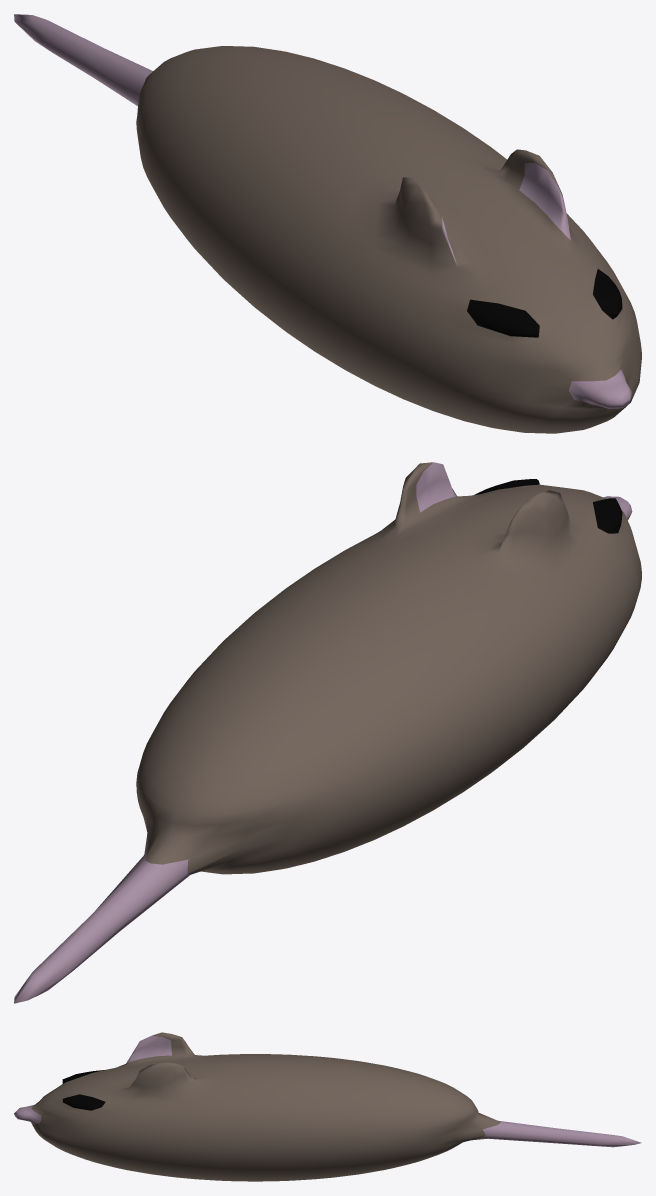
Rendered from Mouse_anim.fbx.
3 renders of one model, top to bottom at view 1: azimuth 30°, elevation 25°; view 2: azimuth 150°, elevation 25°; view 3: azimuth 270°, elevation 25°, orthographic. The views are drawn at different scales.
Visible parts, largest first — view 1: mouse; view 2: mouse; view 3: mouse.
Boxes of the visible parts, x1,y1,x2,y2 form: mouse: (14, 14, 641, 433); mouse: (14, 462, 641, 1003); mouse: (14, 1032, 641, 1181).
Size of the model in its own units: 1.19 by 1.02 by 4.68.
